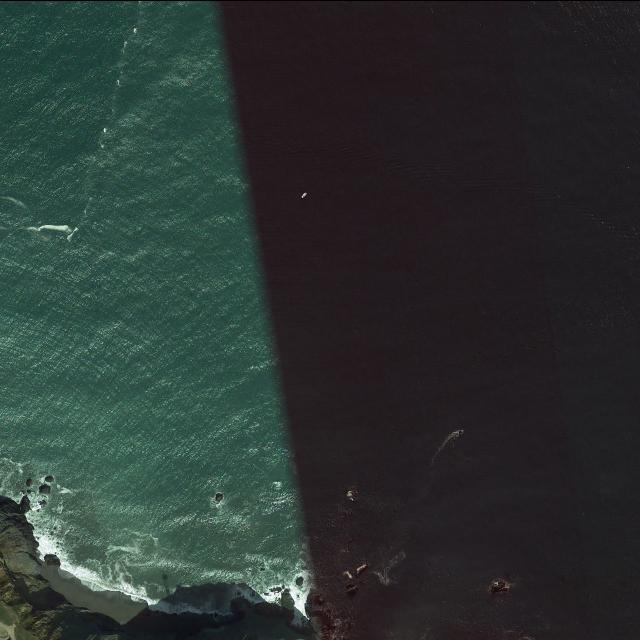ship: (456, 428, 464, 434), (301, 190, 307, 198)
